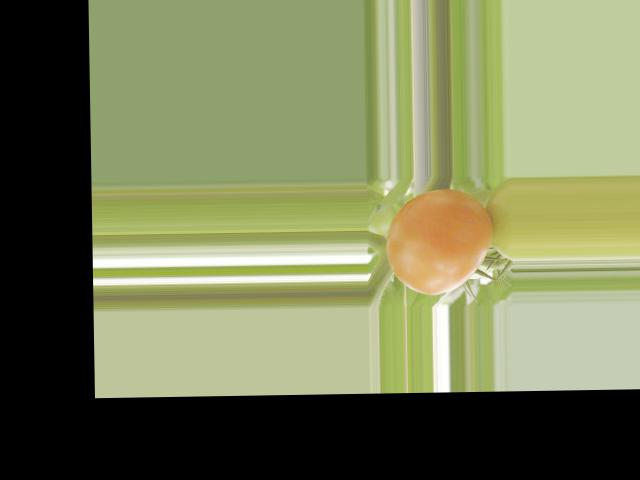tomato: (385, 188, 493, 295)
